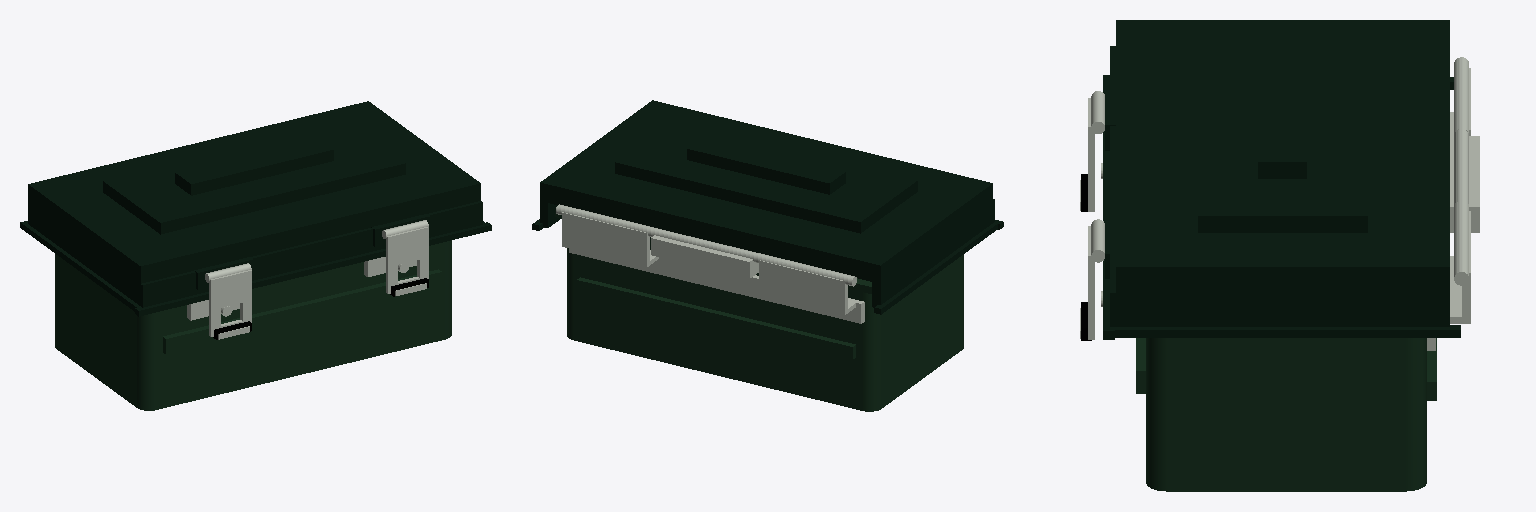
robot.urdf — weatherproof_tackle_box:
<robot name="weatherproof_tackle_box">
  <material name="olive_uv_stabilized_polymer">
    <color rgba="0.12 0.22 0.15 1" />
    </material>
  <material name="dark_lid_polymer">
    <color rgba="0.07 0.14 0.1 1" />
    </material>
  <material name="black_epdm_gasket">
    <color rgba="0.005 0.006 0.005 1" />
    </material>
  <material name="marine_stainless">
    <color rgba="0.74 0.76 0.72 1" />
    </material>
  <material name="black_rubber">
    <color rgba="0.015 0.014 0.012 1" />
    </material>
  <link name="shell">
    <visual name="shell_body">
      <geometry>
        <mesh filename="assets/meshes/shell_body.obj" />
        </geometry>
      <material name="olive_uv_stabilized_polymer" />
      </visual>
    <collision name="shell_body">
      <geometry>
        <mesh filename="assets/meshes/shell_body.obj" />
        </geometry>
      </collision>
    </link>
  <link name="keeper_0">
    <visual name="keeper_plate">
      <origin xyz="-0.13 -0.125 0.136" rpy="0 0 0" />
      <geometry>
        <box size="0.074 0.01 0.034" />
        </geometry>
      <material name="marine_stainless" />
      </visual>
    <visual name="keeper_post">
      <origin xyz="-0.13 -0.14 0.135" rpy="1.5708 0 0" />
      <geometry>
        <cylinder radius="0.007" length="0.038" />
        </geometry>
      <material name="marine_stainless" />
      </visual>
    <collision name="keeper_plate">
      <origin xyz="-0.13 -0.125 0.136" rpy="0 0 0" />
      <geometry>
        <box size="0.074 0.01 0.034" />
        </geometry>
      </collision>
    <collision name="keeper_post">
      <origin xyz="-0.13 -0.14 0.135" rpy="1.5708 0 0" />
      <geometry>
        <cylinder radius="0.007" length="0.038" />
        </geometry>
      </collision>
    </link>
  <link name="keeper_1">
    <visual name="keeper_plate">
      <origin xyz="0.13 -0.125 0.136" rpy="0 0 0" />
      <geometry>
        <box size="0.074 0.01 0.034" />
        </geometry>
      <material name="marine_stainless" />
      </visual>
    <visual name="keeper_post">
      <origin xyz="0.13 -0.14 0.135" rpy="1.5708 0 0" />
      <geometry>
        <cylinder radius="0.007" length="0.038" />
        </geometry>
      <material name="marine_stainless" />
      </visual>
    <collision name="keeper_plate">
      <origin xyz="0.13 -0.125 0.136" rpy="0 0 0" />
      <geometry>
        <box size="0.074 0.01 0.034" />
        </geometry>
      </collision>
    <collision name="keeper_post">
      <origin xyz="0.13 -0.14 0.135" rpy="1.5708 0 0" />
      <geometry>
        <cylinder radius="0.007" length="0.038" />
        </geometry>
      </collision>
    </link>
  <link name="hinge_base">
    <visual name="hinge_base_leaf">
      <origin xyz="0 0.124 0.14" rpy="0 0 0" />
      <geometry>
        <box size="0.43 0.008 0.028" />
        </geometry>
      <material name="marine_stainless" />
      </visual>
    <visual name="hinge_base_bridge_0">
      <origin xyz="-0.145 0.138 0.151" rpy="0 0 0" />
      <geometry>
        <box size="0.125 0.024 0.006" />
        </geometry>
      <material name="marine_stainless" />
      </visual>
    <visual name="hinge_base_web_0">
      <origin xyz="-0.145 0.154 0.172" rpy="0 0 0" />
      <geometry>
        <box size="0.125 0.008 0.048" />
        </geometry>
      <material name="marine_stainless" />
      </visual>
    <visual name="hinge_base_knuckle_0">
      <origin xyz="-0.145 0.15 0.195" rpy="0 1.5708 0" />
      <geometry>
        <cylinder radius="0.0065" length="0.145" />
        </geometry>
      <material name="marine_stainless" />
      </visual>
    <visual name="hinge_base_bridge_1">
      <origin xyz="0.145 0.138 0.151" rpy="0 0 0" />
      <geometry>
        <box size="0.125 0.024 0.006" />
        </geometry>
      <material name="marine_stainless" />
      </visual>
    <visual name="hinge_base_web_1">
      <origin xyz="0.145 0.154 0.172" rpy="0 0 0" />
      <geometry>
        <box size="0.125 0.008 0.048" />
        </geometry>
      <material name="marine_stainless" />
      </visual>
    <visual name="hinge_base_knuckle_1">
      <origin xyz="0.145 0.15 0.195" rpy="0 1.5708 0" />
      <geometry>
        <cylinder radius="0.0065" length="0.145" />
        </geometry>
      <material name="marine_stainless" />
      </visual>
    <collision name="hinge_base_leaf">
      <origin xyz="0 0.124 0.14" rpy="0 0 0" />
      <geometry>
        <box size="0.43 0.008 0.028" />
        </geometry>
      </collision>
    <collision name="hinge_base_bridge_0">
      <origin xyz="-0.145 0.138 0.151" rpy="0 0 0" />
      <geometry>
        <box size="0.125 0.024 0.006" />
        </geometry>
      </collision>
    <collision name="hinge_base_web_0">
      <origin xyz="-0.145 0.154 0.172" rpy="0 0 0" />
      <geometry>
        <box size="0.125 0.008 0.048" />
        </geometry>
      </collision>
    <collision name="hinge_base_knuckle_0">
      <origin xyz="-0.145 0.15 0.195" rpy="0 1.5708 0" />
      <geometry>
        <cylinder radius="0.0065" length="0.145" />
        </geometry>
      </collision>
    <collision name="hinge_base_bridge_1">
      <origin xyz="0.145 0.138 0.151" rpy="0 0 0" />
      <geometry>
        <box size="0.125 0.024 0.006" />
        </geometry>
      </collision>
    <collision name="hinge_base_web_1">
      <origin xyz="0.145 0.154 0.172" rpy="0 0 0" />
      <geometry>
        <box size="0.125 0.008 0.048" />
        </geometry>
      </collision>
    <collision name="hinge_base_knuckle_1">
      <origin xyz="0.145 0.15 0.195" rpy="0 1.5708 0" />
      <geometry>
        <cylinder radius="0.0065" length="0.145" />
        </geometry>
      </collision>
    </link>
  <link name="lid">
    <visual name="lid_body">
      <geometry>
        <mesh filename="assets/meshes/lid_body.obj" />
        </geometry>
      <material name="dark_lid_polymer" />
      </visual>
    <visual name="gasket_ring">
      <geometry>
        <mesh filename="assets/meshes/gasket_ring.obj" />
        </geometry>
      <material name="black_epdm_gasket" />
      </visual>
    <visual name="hinge_lid_leaf">
      <origin xyz="0 0.003 -0.012" rpy="0 0 0" />
      <geometry>
        <box size="0.145 0.026 0.024" />
        </geometry>
      <material name="marine_stainless" />
      </visual>
    <visual name="hinge_lid_knuckle">
      <origin xyz="0 0 0" rpy="0 1.5708 0" />
      <geometry>
        <cylinder radius="0.0063" length="0.145" />
        </geometry>
      <material name="marine_stainless" />
      </visual>
    <collision name="lid_body">
      <geometry>
        <mesh filename="assets/meshes/lid_body.obj" />
        </geometry>
      </collision>
    <collision name="gasket_ring">
      <geometry>
        <mesh filename="assets/meshes/gasket_ring.obj" />
        </geometry>
      </collision>
    <collision name="hinge_lid_leaf">
      <origin xyz="0 0.003 -0.012" rpy="0 0 0" />
      <geometry>
        <box size="0.145 0.026 0.024" />
        </geometry>
      </collision>
    <collision name="hinge_lid_knuckle">
      <origin xyz="0 0 0" rpy="0 1.5708 0" />
      <geometry>
        <cylinder radius="0.0063" length="0.145" />
        </geometry>
      </collision>
    </link>
  <link name="latch_0">
    <visual name="latch_plate">
      <geometry>
        <mesh filename="assets/meshes/latch_plate.obj" />
        </geometry>
      <material name="marine_stainless" />
      </visual>
    <visual name="thumb_pad">
      <origin xyz="0 -0.01 -0.076" rpy="0 0 0" />
      <geometry>
        <box size="0.052 0.01 0.012" />
        </geometry>
      <material name="black_rubber" />
      </visual>
    <collision name="latch_plate">
      <geometry>
        <mesh filename="assets/meshes/latch_plate.obj" />
        </geometry>
      </collision>
    <collision name="thumb_pad">
      <origin xyz="0 -0.01 -0.076" rpy="0 0 0" />
      <geometry>
        <box size="0.052 0.01 0.012" />
        </geometry>
      </collision>
    </link>
  <link name="latch_1">
    <visual name="latch_plate">
      <geometry>
        <mesh filename="assets/meshes/latch_plate.obj" />
        </geometry>
      <material name="marine_stainless" />
      </visual>
    <visual name="thumb_pad">
      <origin xyz="0 -0.01 -0.076" rpy="0 0 0" />
      <geometry>
        <box size="0.052 0.01 0.012" />
        </geometry>
      <material name="black_rubber" />
      </visual>
    <collision name="latch_plate">
      <geometry>
        <mesh filename="assets/meshes/latch_plate.obj" />
        </geometry>
      </collision>
    <collision name="thumb_pad">
      <origin xyz="0 -0.01 -0.076" rpy="0 0 0" />
      <geometry>
        <box size="0.052 0.01 0.012" />
        </geometry>
      </collision>
    </link>
  <joint name="shell_to_keeper_0" type="fixed">
    <parent link="shell" />
    <child link="keeper_0" />
    </joint>
  <joint name="shell_to_keeper_1" type="fixed">
    <parent link="shell" />
    <child link="keeper_1" />
    </joint>
  <joint name="shell_to_hinge_base" type="fixed">
    <parent link="shell" />
    <child link="hinge_base" />
    </joint>
  <joint name="lid_hinge" type="revolute">
    <origin xyz="0 0.15 0.195" rpy="0 0 0" />
    <parent link="shell" />
    <child link="lid" />
    <axis xyz="-1 0 0" />
    <limit effort="16" velocity="2" lower="0" upper="1.75" />
    </joint>
  <joint name="latch_hinge_0" type="revolute">
    <origin xyz="-0.13 -0.311 -0.005" rpy="0 0 0" />
    <parent link="lid" />
    <child link="latch_0" />
    <axis xyz="-1 0 0" />
    <limit effort="4" velocity="4" lower="0" upper="1.25" />
    </joint>
  <joint name="latch_hinge_1" type="revolute">
    <origin xyz="0.13 -0.311 -0.005" rpy="0 0 0" />
    <parent link="lid" />
    <child link="latch_1" />
    <axis xyz="-1 0 0" />
    <limit effort="4" velocity="4" lower="0" upper="1.25" />
    </joint>
  </robot>

--- What the picture shows (computed from the rendered views, not written in the file) ---
3 views of the same robot in one strip: view 1: azimuth 30°, elevation 25°; view 2: azimuth 150°, elevation 25°; view 3: azimuth 270°, elevation 25° (orthographic).
Model weatherproof_tackle_box with 7 links and 6 joints (3 revolute, 3 fixed), rooted at shell, posed all joints at 0.
Links seen in each view (by area): view 1: lid, shell, latch_0, latch_1; view 2: lid, shell, hinge_base; view 3: lid, shell, hinge_base, latch_1, latch_0.
Link boxes in pixels (x1,y1,x2,y2): lid: (20,101,491,316); shell: (55,240,451,410); latch_0: (205,263,251,339); latch_1: (382,220,428,296); lid: (532,100,1003,314); shell: (555,210,963,411); hinge_base: (556,204,864,323); lid: (1103,20,1479,339); shell: (1136,338,1436,491); hinge_base: (1427,57,1470,350); latch_1: (1080,219,1104,340); latch_0: (1080,91,1104,211).
Size in the robot's own frame: 0.518 by 0.343 by 0.253 metres.
Meshes: 4 distinct files referenced, 5 mesh visuals loaded (4 OBJ).
